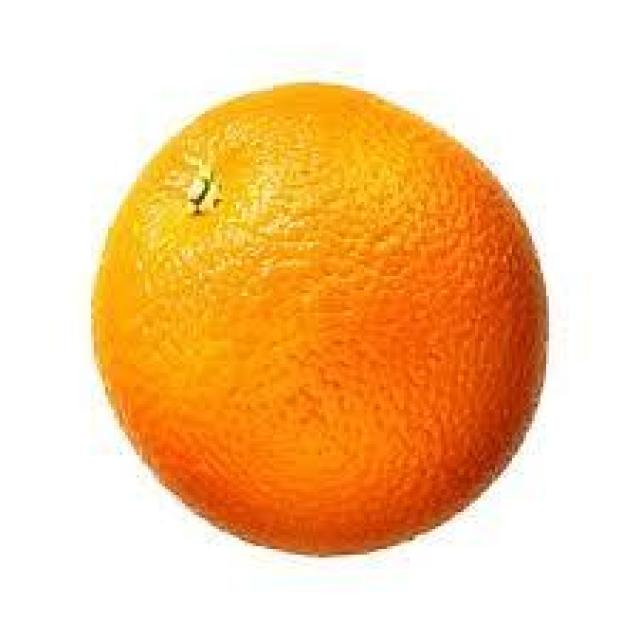Good_Orange: (91, 82, 549, 560)
